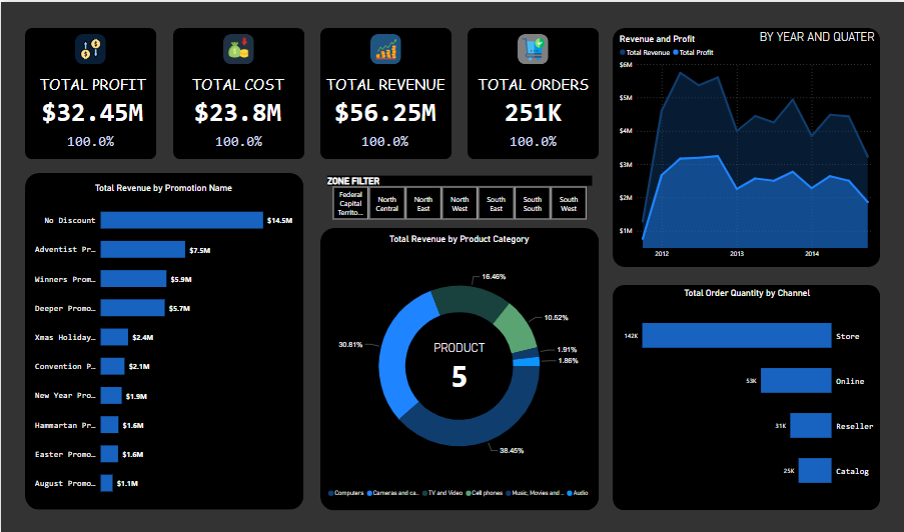

Layout of this report page (visuals, bound fields, positions):
{"tool":"powerbi","page":{"name":"Page 1","canvas":[1700,1000],"ordinal":0},"visuals":[{"type":"shape","box":[45.6,49.4,246.9,246.9],"z":0},{"type":"shape","box":[139.6,59.7,58.3,56.7],"z":0,"group":"g1"},{"type":"shape","box":[694.4,59.7,58.3,56.7],"z":0,"group":"g3"},{"type":"shape","box":[971.5,59.7,58.3,56.7],"z":0,"group":"g4"},{"type":"shape","box":[418.1,60.3,58.3,56.7],"z":0,"group":"g2"},{"type":"shape","box":[600.2,49.4,246.9,246.9],"z":1000},{"type":"image","box":[974.8,59.7,51.7,56.7],"z":1000,"group":"g4"},{"type":"image","box":[419.8,61.1,51.7,50.8],"z":1000,"group":"g2"},{"type":"image","box":[699.4,63,48.3,50],"z":1000,"group":"g3"},{"type":"image","box":[141.3,63.9,55,49.2],"z":1000,"group":"g1"},{"type":"shape","box":[877.5,49.4,246.9,246.9],"z":2000},{"type":"shape","box":[322.9,49.4,246.9,246.9],"z":3000},{"type":"shape","box":[45.6,321,524.2,634.4],"z":4000},{"type":"shape","box":[600.2,425,524.2,531.8],"z":5000},{"type":"shape","box":[1151.1,531.8,503.4,423.6],"z":6000},{"type":"shape","box":[1151.1,49.4,503.4,450.2],"z":7000},{"type":"card","title":"TOTAL PROFIT","fields":{"Values":["Sum(Table_1.Profit)"]},"box":[52.7,137.4,239.1,96],"z":8000},{"type":"card","title":"TOTAL COST","fields":{"Values":["Sum(Table_1.Total Cost)"]},"box":[321.9,137.4,246.6,96],"z":9000},{"type":"card","title":"TOTAL REVENUE","fields":{"Values":["Sum(Table_1.Total Revenue)"]},"box":[600.6,137.4,244.7,96],"z":10000},{"type":"card","title":"TOTAL ORDERS","fields":{"Values":["Sum(Table_1.Order Qty)"]},"box":[877.3,137.4,246.6,96],"z":11000},{"type":"clusteredBarChart","fields":{"Y":["Sum(Table_1.Total Revenue)"],"Category":["Table_1.Promotion Name"]},"box":[43.9,340,524.6,608.7],"z":12000},{"type":"areaChart","title":"Revenue and Profit","fields":{"Y":["Sum(Table_1.Total Revenue)","Sum(Table_1.Profit)"],"Category":["Table_1.Order Date.Variation.Date Hierarchy.Year","Table_1.Order Date.Variation.Date Hierarchy.Quarter"]},"box":[1158,60,490,432],"z":13000},{"type":"donutChart","fields":{"Category":["Table_1.Product Category"],"Y":["Sum(Table_1.Total Revenue)"]},"box":[605.9,436.4,510.9,507.2],"z":14000},{"type":"textbox","box":[804,632,116,114],"z":15000},{"type":"slicer","fields":{"Values":["Table_1.Zone"]},"box":[600.2,321,524.2,87.4],"z":16000},{"type":"clusteredBarChart","fields":{"Category":["Table_1.Channel"],"Y":["Sum(Table_1.Order Qty)"]},"box":[1157.5,538.8,490,410],"z":17000},{"type":"group","id":"g1","title":"Group 1","box":[139.6,59.7,58.3,56.7],"z":18000},{"type":"group","id":"g2","title":"Group 2","box":[418.1,60.3,58.3,56.7],"z":19000},{"type":"group","id":"g3","title":"Group 3","box":[694.4,59.7,58.3,56.7],"z":20000},{"type":"group","id":"g4","title":"Group 4","box":[971.5,59.7,58.3,56.7],"z":21000},{"type":"textbox","box":[1421.4,47.1,245.7,48.6],"z":22000},{"type":"card","fields":{"Values":["Measures (2).lala"]},"box":[107.3,225.9,122.4,69.7],"z":23000},{"type":"card","fields":{"Values":["Measures (2).%cost"]},"box":[385.9,225.9,122.4,69.7],"z":24000},{"type":"card","fields":{"Values":["Measures (2).%revenue"]},"box":[660.8,225.9,122.4,69.7],"z":25000},{"type":"card","fields":{"Values":["Measures (2).%order"]},"box":[939.4,225.9,122.4,69.7],"z":26000}]}

Visuals, with their boxes in screenshot pixels (x1, y1, x2, y2), scaled from the page's 1700x1000 canvas onto the 904x532 screenshot:
shape: <region>24, 26, 156, 158</region>
shape: <region>74, 32, 105, 62</region>
shape: <region>369, 32, 400, 62</region>
shape: <region>517, 32, 548, 62</region>
shape: <region>222, 32, 253, 62</region>
shape: <region>319, 26, 450, 158</region>
image: <region>518, 32, 546, 62</region>
image: <region>223, 33, 251, 60</region>
image: <region>372, 34, 398, 60</region>
image: <region>75, 34, 104, 60</region>
shape: <region>467, 26, 598, 158</region>
shape: <region>172, 26, 303, 158</region>
shape: <region>24, 171, 303, 508</region>
shape: <region>319, 226, 598, 509</region>
shape: <region>612, 283, 880, 508</region>
shape: <region>612, 26, 880, 266</region>
"TOTAL PROFIT" card: <region>28, 73, 155, 124</region>
"TOTAL COST" card: <region>171, 73, 302, 124</region>
"TOTAL REVENUE" card: <region>319, 73, 450, 124</region>
"TOTAL ORDERS" card: <region>467, 73, 598, 124</region>
clusteredBarChart - Sum(Table_1.Total Revenue) x Table_1.Promotion Name: <region>23, 181, 302, 505</region>
"Revenue and Profit" areaChart: <region>616, 32, 876, 262</region>
donutChart - Table_1.Product Category x Sum(Table_1.Total Revenue): <region>322, 232, 594, 502</region>
textbox: <region>428, 336, 489, 397</region>
slicer - Table_1.Zone: <region>319, 171, 598, 217</region>
clusteredBarChart - Table_1.Channel x Sum(Table_1.Order Qty): <region>616, 287, 876, 505</region>
"Group 1" group: <region>74, 32, 105, 62</region>
"Group 2" group: <region>222, 32, 253, 62</region>
"Group 3" group: <region>369, 32, 400, 62</region>
"Group 4" group: <region>517, 32, 548, 62</region>
textbox: <region>756, 25, 887, 51</region>
card - Measures (2).lala: <region>57, 120, 122, 157</region>
card - Measures (2).%cost: <region>205, 120, 270, 157</region>
card - Measures (2).%revenue: <region>351, 120, 416, 157</region>
card - Measures (2).%order: <region>500, 120, 565, 157</region>
